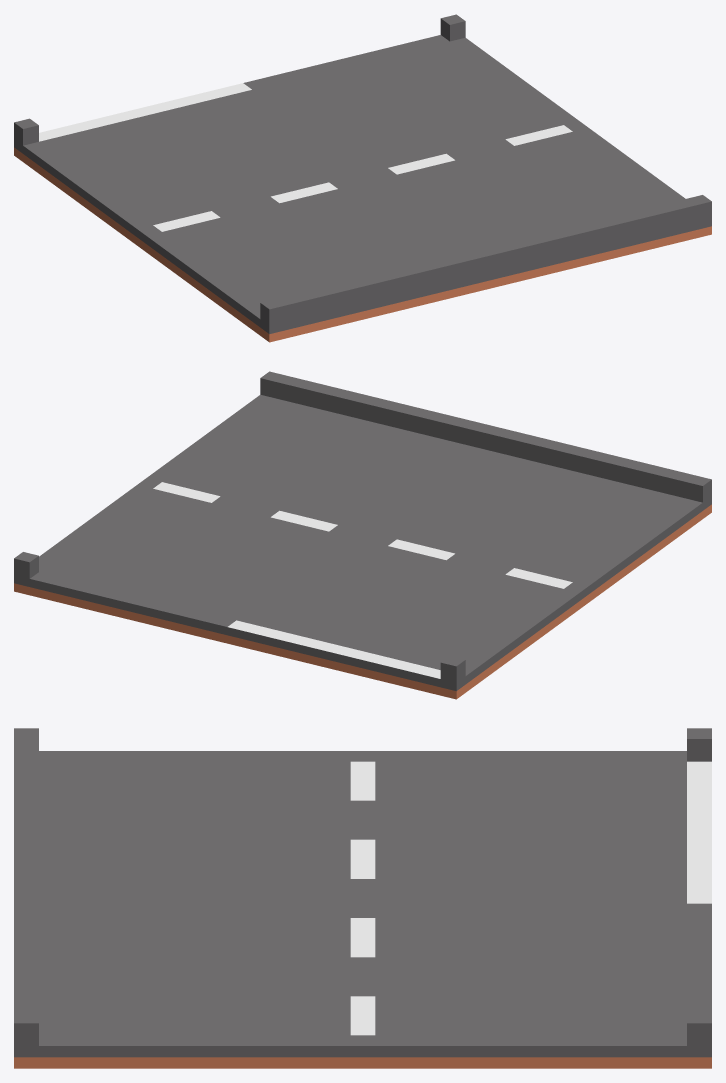
File: RoadTripleCrossroad.fbx
3 views of the same model, one above another, from view 1: azimuth 30°, elevation 25°; view 2: azimuth 150°, elevation 25°; view 3: azimuth 270°, elevation 25° (orthographic). The views are drawn at different scales.
Parts seen in each view (by area): view 1: Soil; view 2: Soil; view 3: Soil.
Part boxes in pixels (bbox=[...]): Soil: bbox=[14, 14, 711, 342]; Soil: bbox=[14, 371, 711, 699]; Soil: bbox=[14, 728, 711, 1068].
Bounding box in the file's own units: 560 × 560 × 40.
